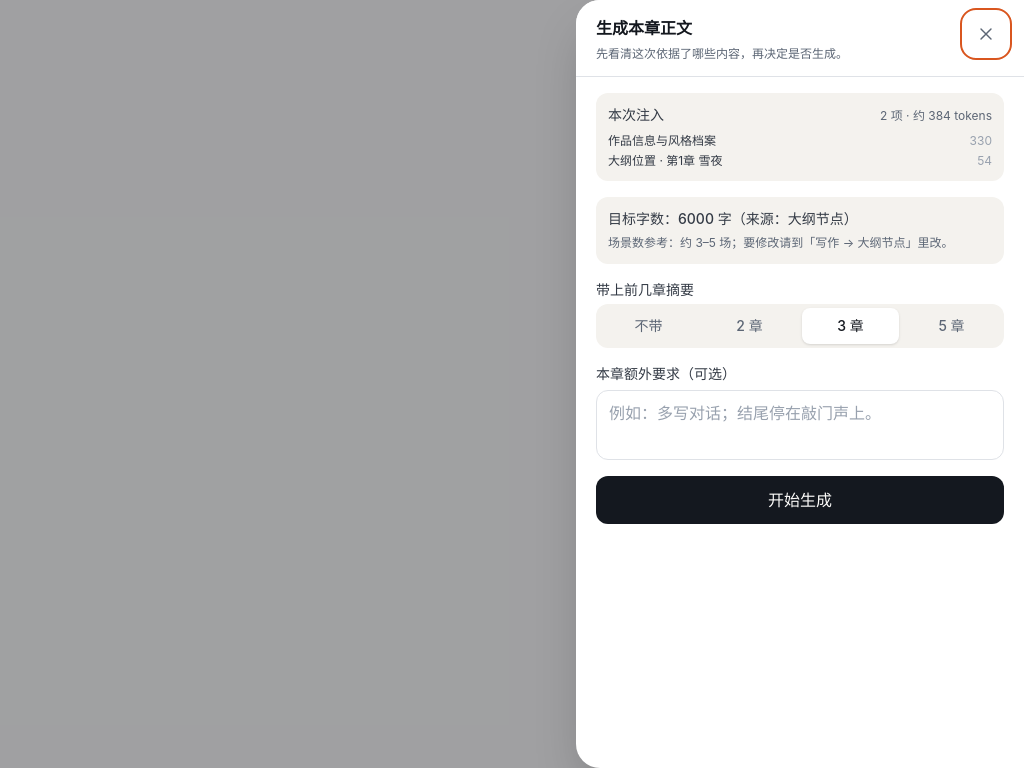
Test: 请求参数与结构文案 › 按目标推导 max_tokens 传给请求，user prompt 换成结构文案
Click the button "开始生成" at (800,500), box [596,476,1004,524]
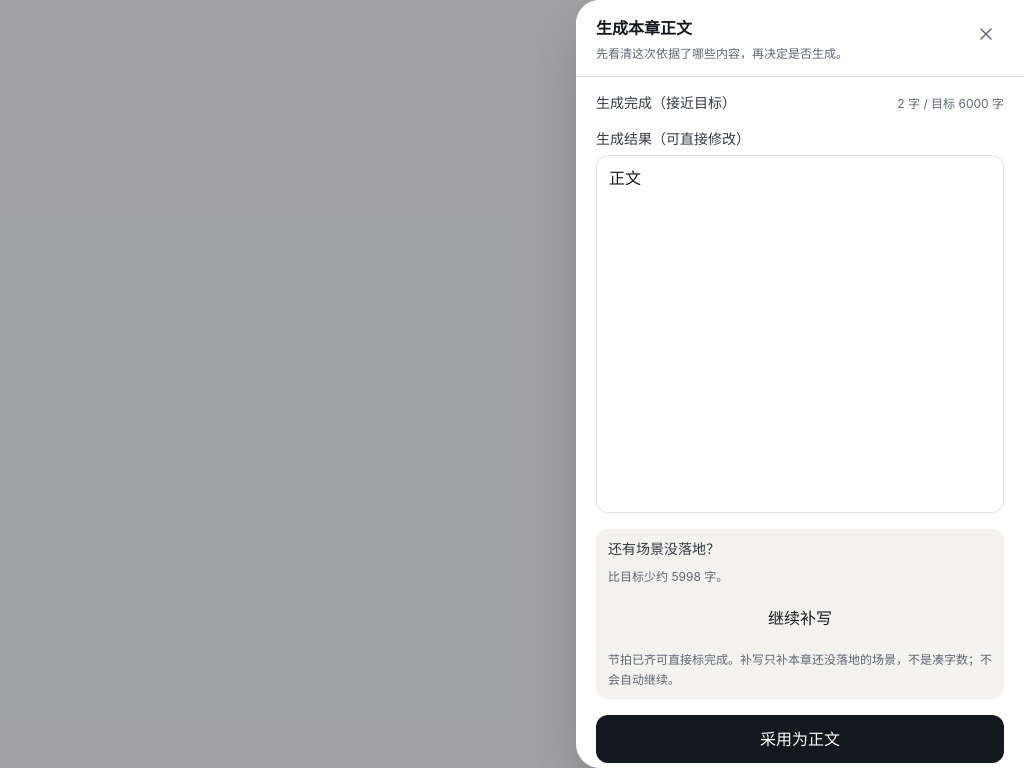
Expected: the text box labelled "生成结果（可直接修改）" is shown, [596,154,1004,512]
